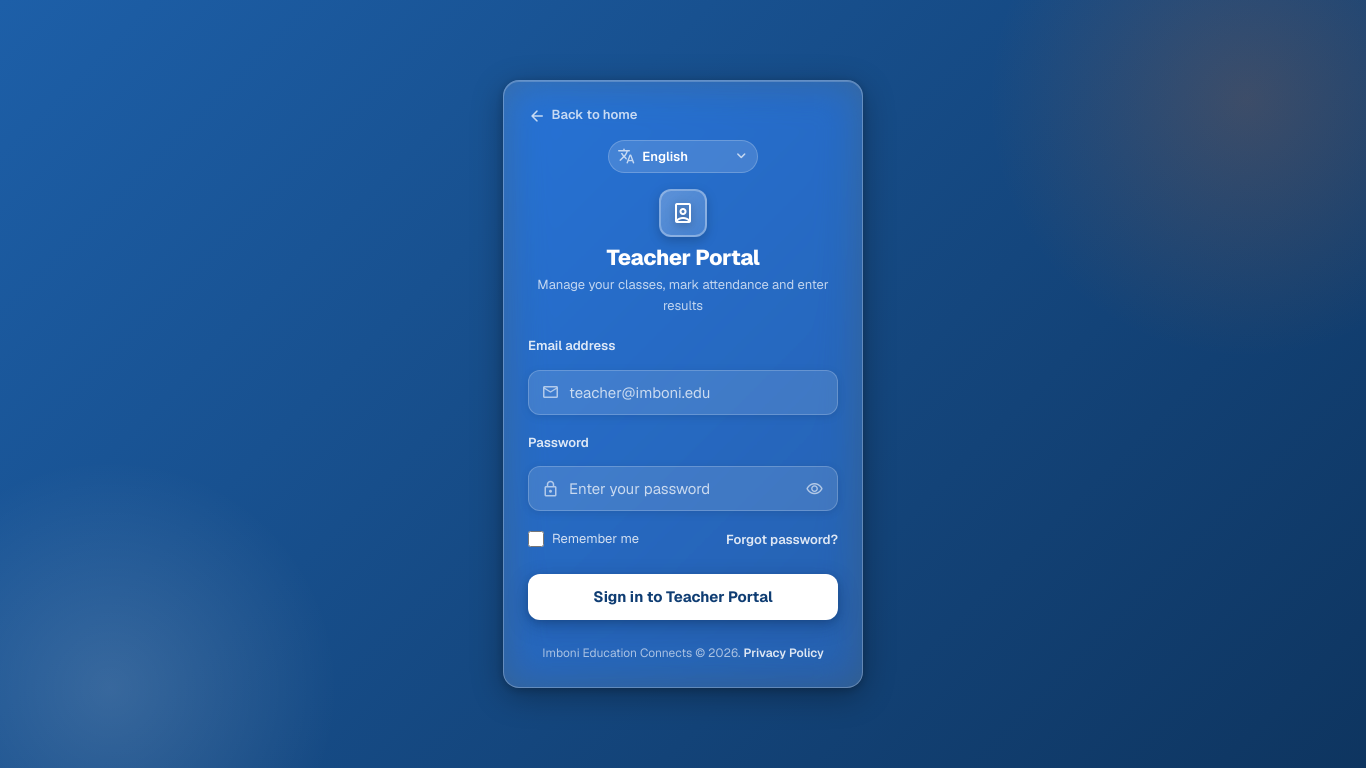
Test: PortalLogin › shows the real backend error message when login fails (not a generic message)
Type "wrong@imboni.edu" into the field labelled "Email address". click: (683, 392)
box: [528,370,838,415]
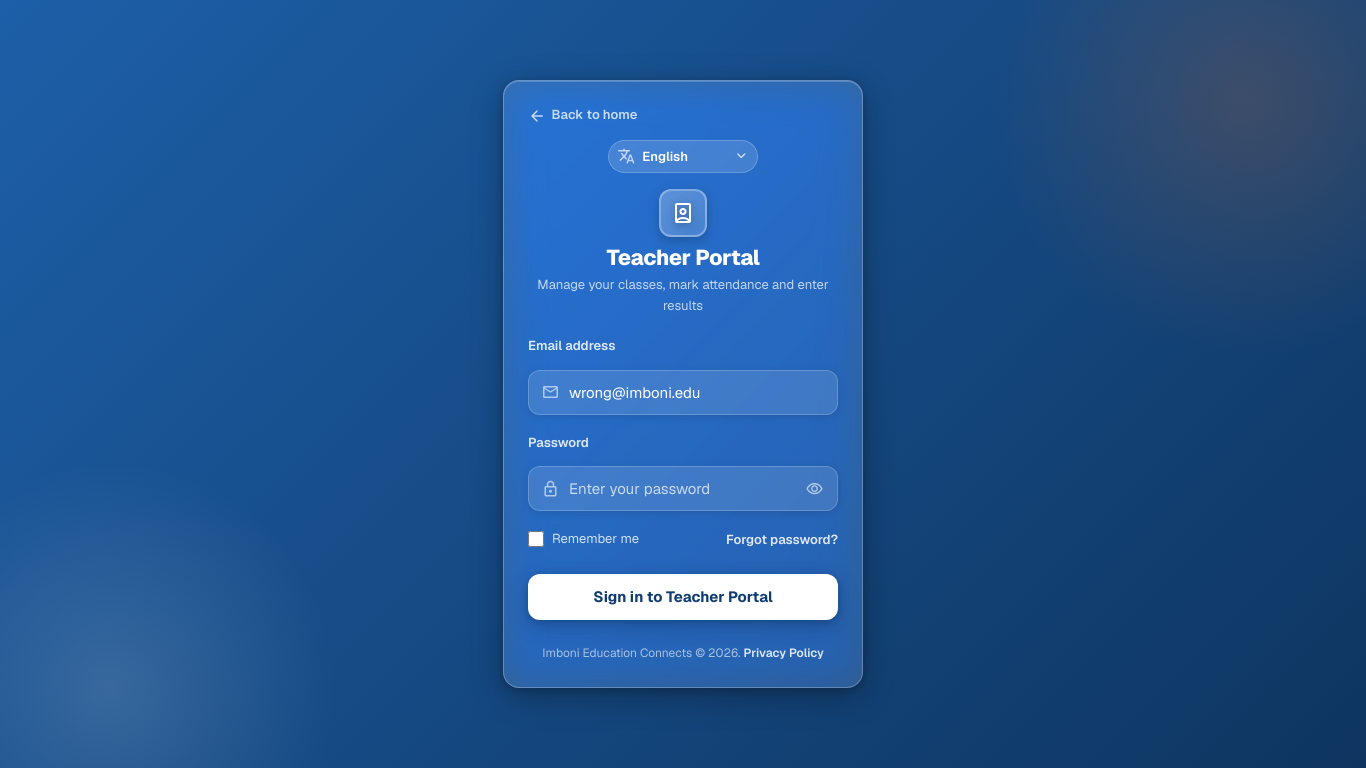
Type "badpass" into the password field labelled "Password". click: (683, 489)
box: [528,466,838,511]
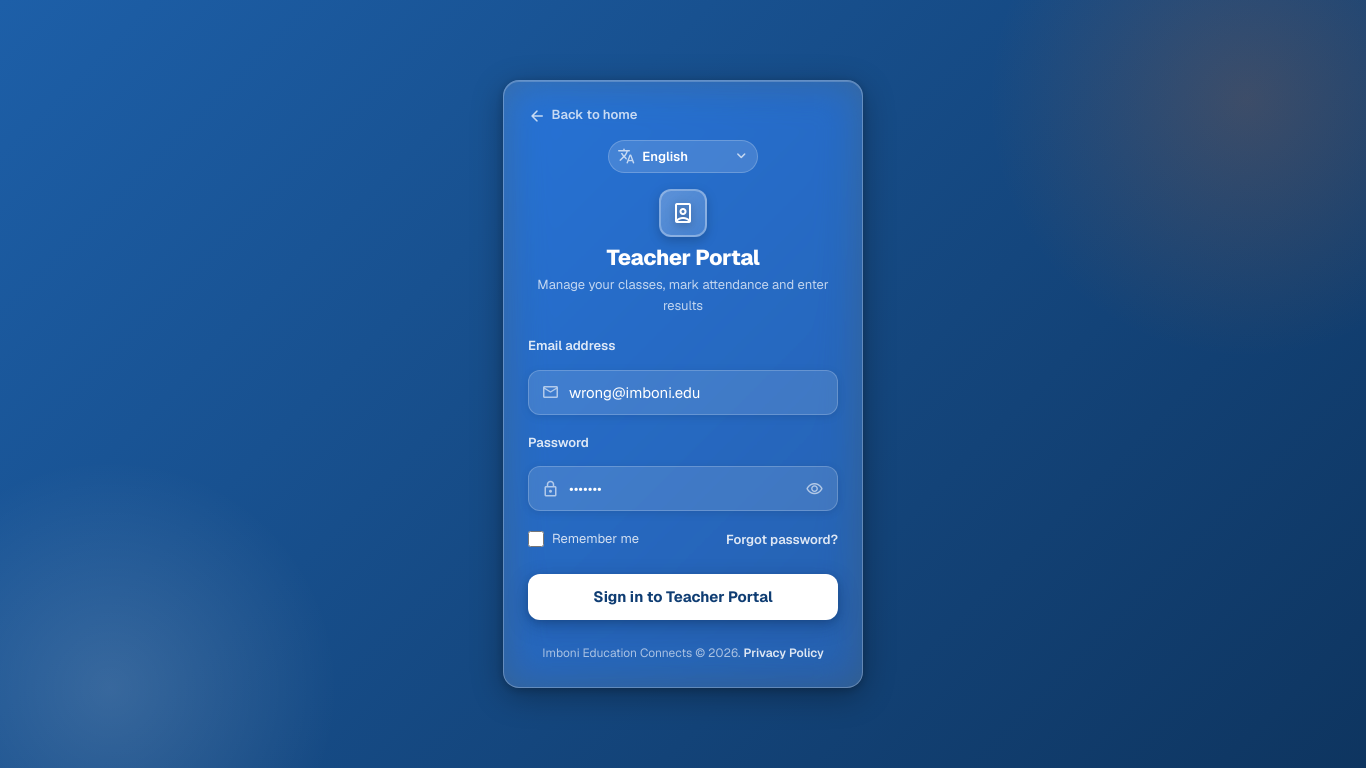
Click the button "Sign in to Teacher Portal". click: click(683, 597)
box: [528,574,838,620]
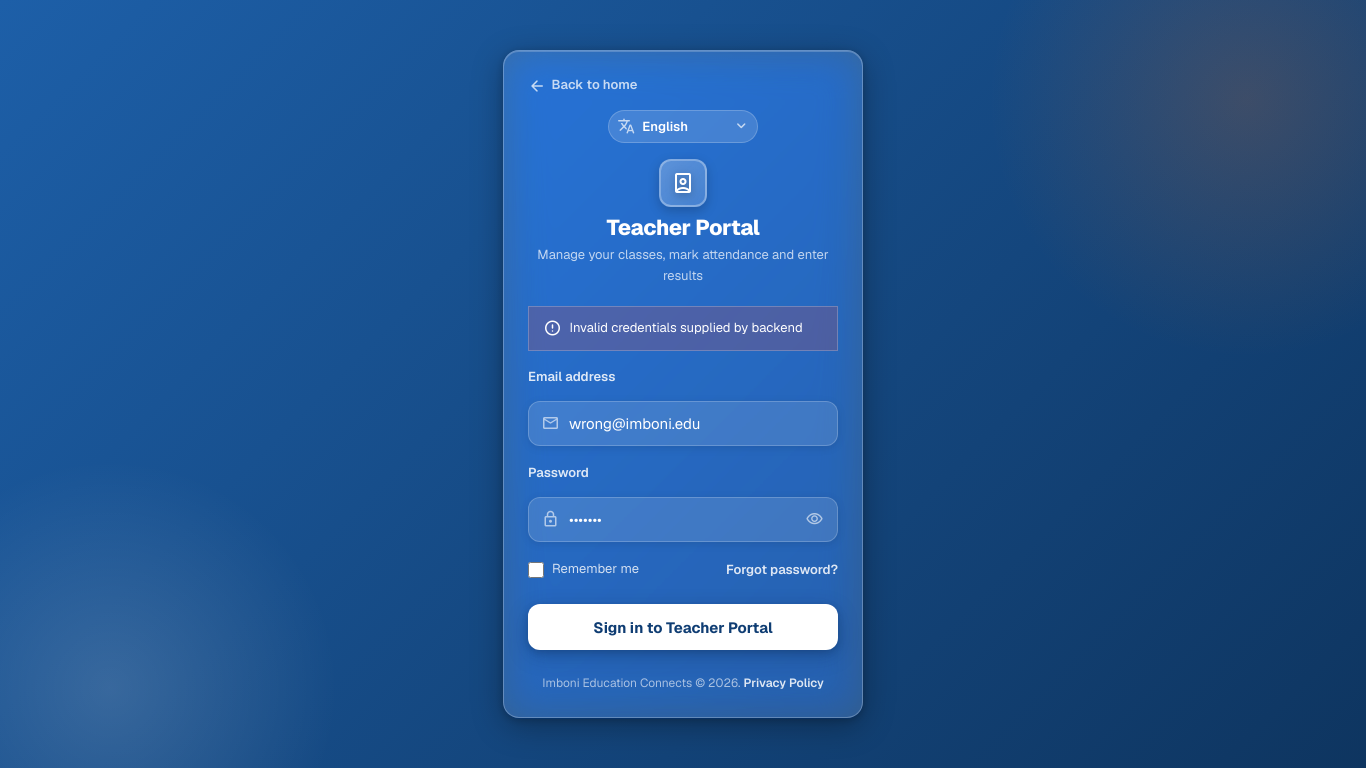
expect the text "Invalid credentials supplied by backend" is shown: met, box [528,306,838,351]
